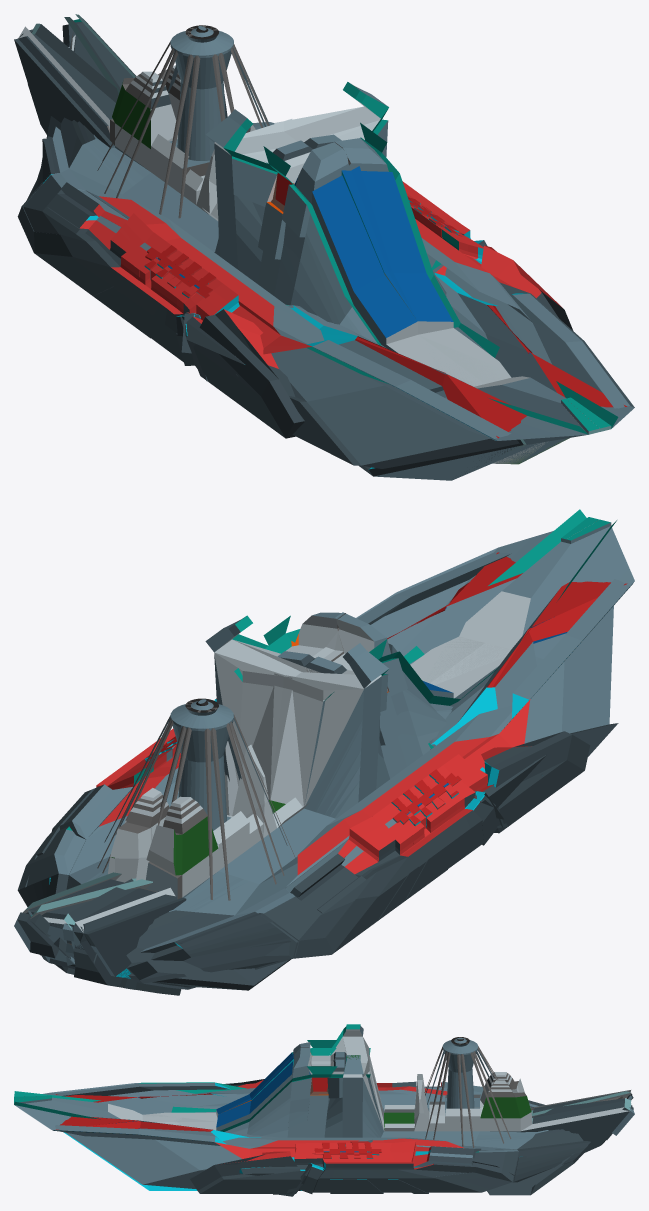
Rendered from 111gemiAYARLI.fbx.
3 views of the same model, one above another, from view 1: azimuth 30°, elevation 25°; view 2: azimuth 150°, elevation 25°; view 3: azimuth 270°, elevation 25° (orthographic). The views are drawn at different scales.
Parts seen in each view (by area): view 1: gemi; view 2: gemi; view 3: gemi.
Boxes of the visible parts, x1,y1,x2,y2 form: gemi: (14,14,634,480); gemi: (14,509,634,995); gemi: (14,1024,634,1196).
Bounding box in the file's own units: 1119 × 815 × 3326.
